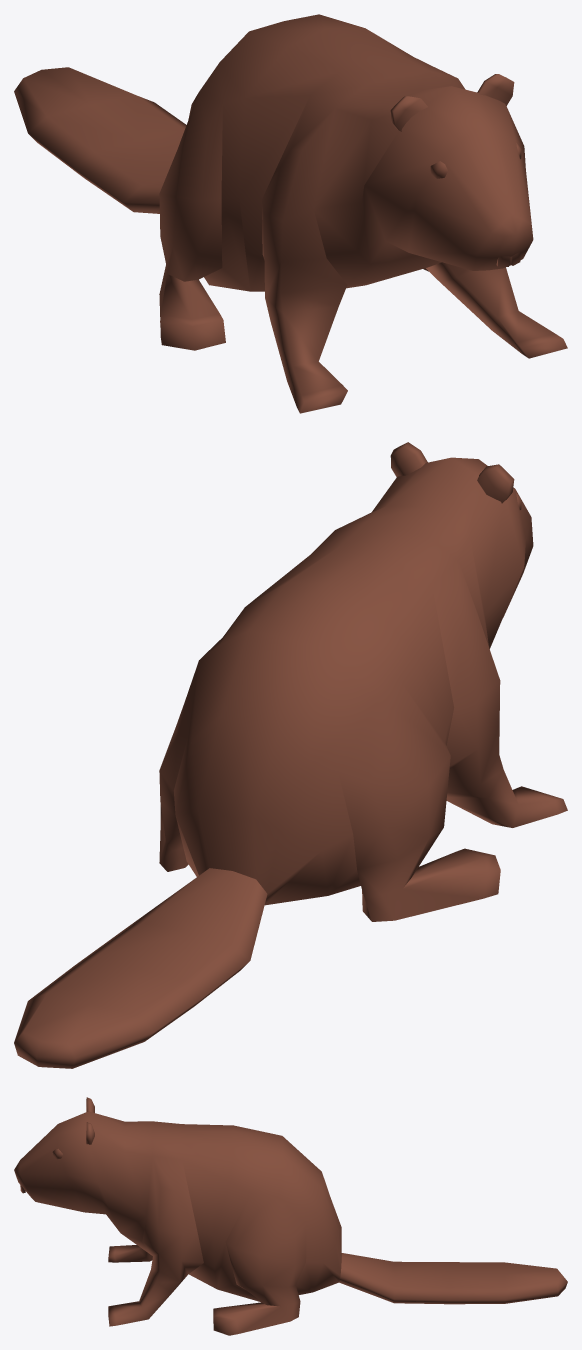
The model's file is bober.glb.
3 renders of one model, top to bottom at view 1: azimuth 30°, elevation 25°; view 2: azimuth 150°, elevation 25°; view 3: azimuth 270°, elevation 25°, orthographic. The views are drawn at different scales.
Parts seen in each view (by area): view 1: Cube.001; view 2: Cube.001; view 3: Cube.001.
Boxes of the visible parts, x1,y1,x2,y2 form: Cube.001: (14,14,567,413); Cube.001: (14,442,567,1068); Cube.001: (14,1097,567,1335).
Size of the model in its own units: 0.5019 by 0.4377 by 1.23.
